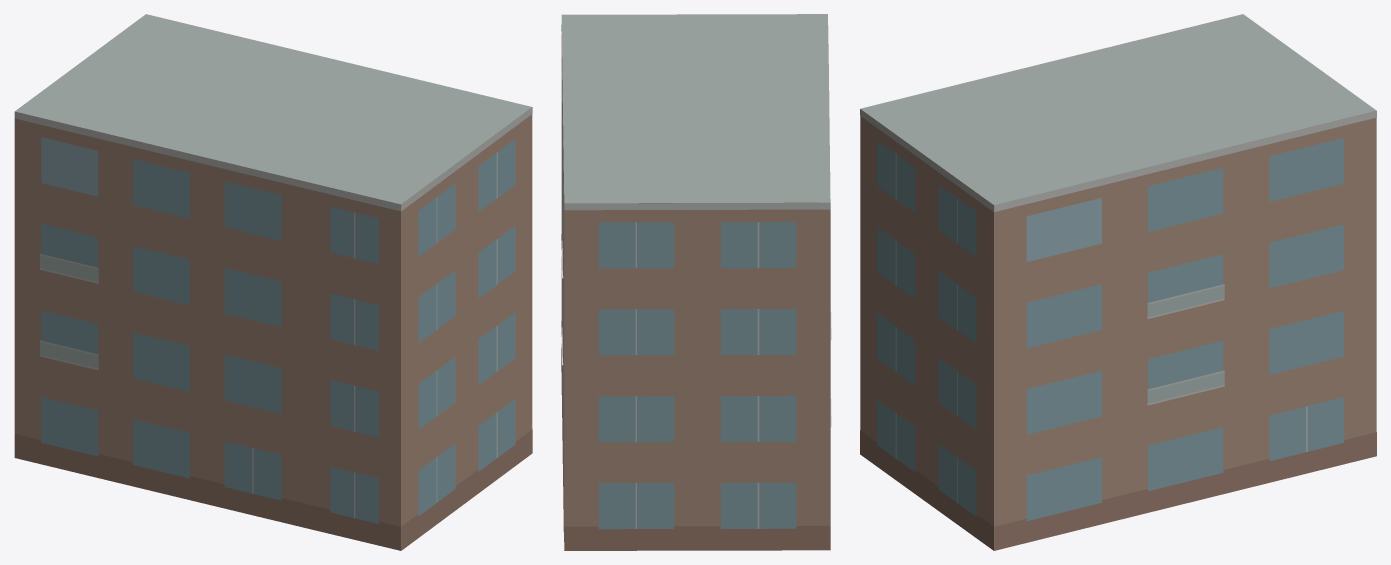
File: residential-f32e5135-6876-462d-9eab-ed18d5953f54.glb
3 renders of one model, left to right at view 1: azimuth 30°, elevation 25°; view 2: azimuth 150°, elevation 25°; view 3: azimuth 270°, elevation 25°, orthographic.
Parts seen in each view (by area): view 1: residential-f32e5135-6876-462d-9eab-ed18d5953f54.tmp; view 2: residential-f32e5135-6876-462d-9eab-ed18d5953f54.tmp; view 3: residential-f32e5135-6876-462d-9eab-ed18d5953f54.tmp.
Part boxes in pixels (bbox=[...]): residential-f32e5135-6876-462d-9eab-ed18d5953f54.tmp: bbox=[14, 14, 532, 550]; residential-f32e5135-6876-462d-9eab-ed18d5953f54.tmp: bbox=[561, 14, 831, 550]; residential-f32e5135-6876-462d-9eab-ed18d5953f54.tmp: bbox=[860, 14, 1376, 550].
Bounding box in the file's own units: 14.49 × 12.2 × 16.54.
